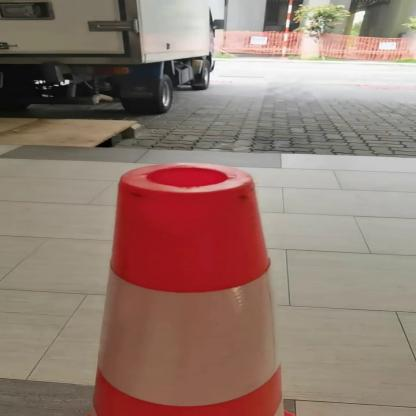cone: (54, 154, 323, 416)
